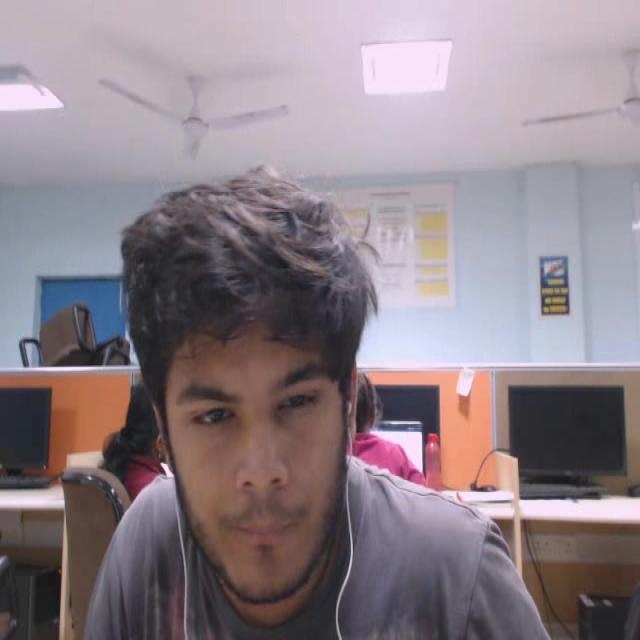Bored: (104, 159, 408, 633)
